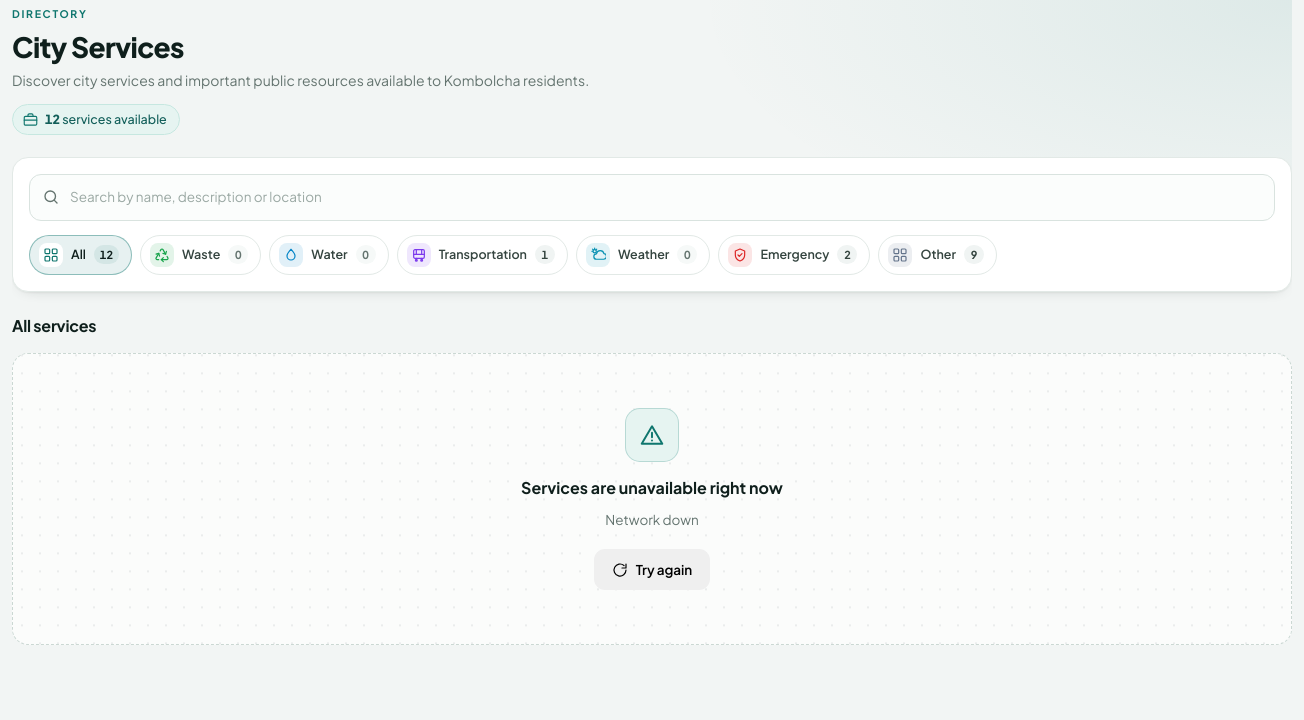
Test: Services directory › shows a retry action when the directory fails to load
expect the heading "Services are unavailable right now" is shown: met, box [521,476,783,500]
expect the text "Network down" is shown: met, box [605,510,699,531]
Click the button "Try again" at {"x": 652, "y": 570}, box [594,549,710,590]
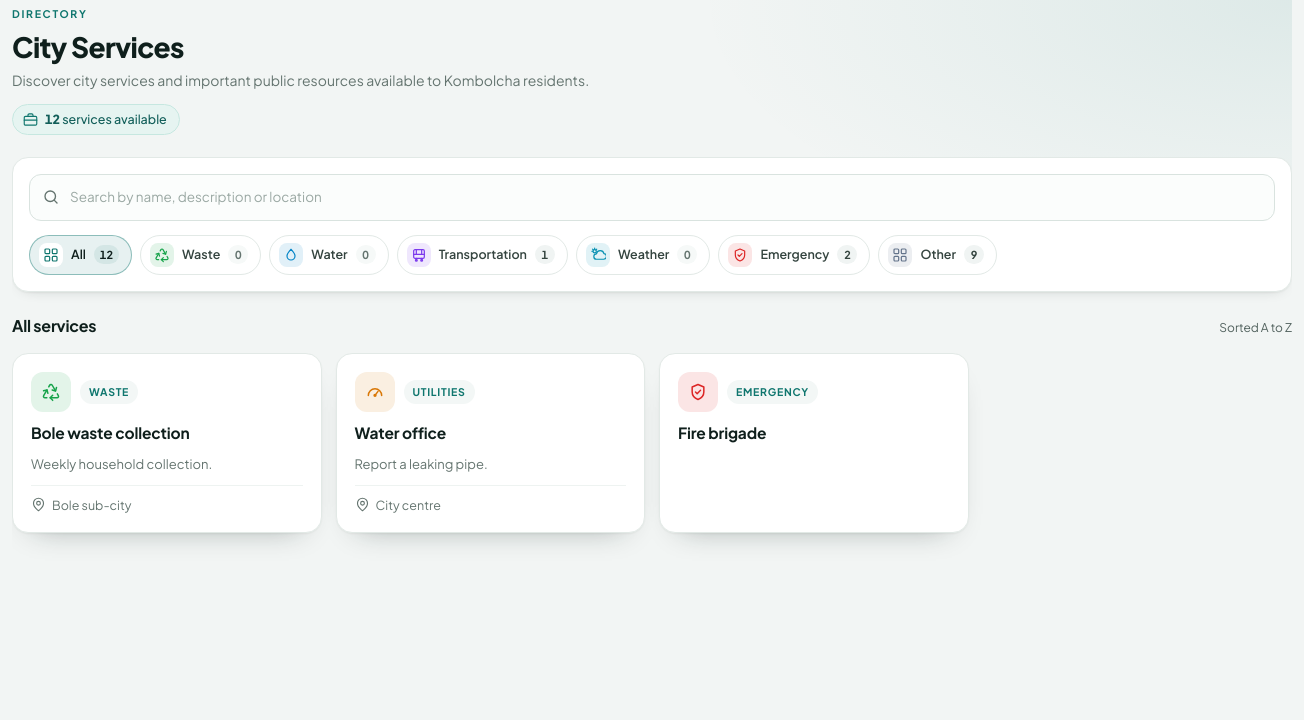
expect the heading "Fire brigade" is shown: met, box [678,423,766,442]
